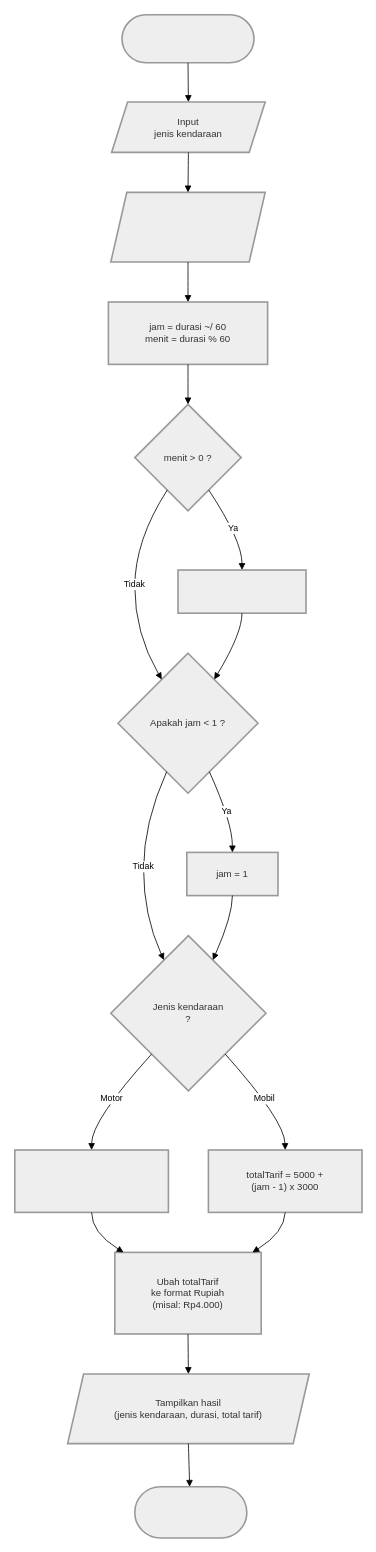
Image size: 376x1552. Some labels were removed from this diagram. The centre of each missing label's shape, as x and y in pixels:
"Input durasi parkir (menit)" goes at (188,226).
"jam = jam + 1" goes at (241,591).
"Mulai" goes at (187,38).
"Selesai" goes at (190,1512).
"totalTarif = 2000 + (jam - 1) x 1000" goes at (91,1181).
